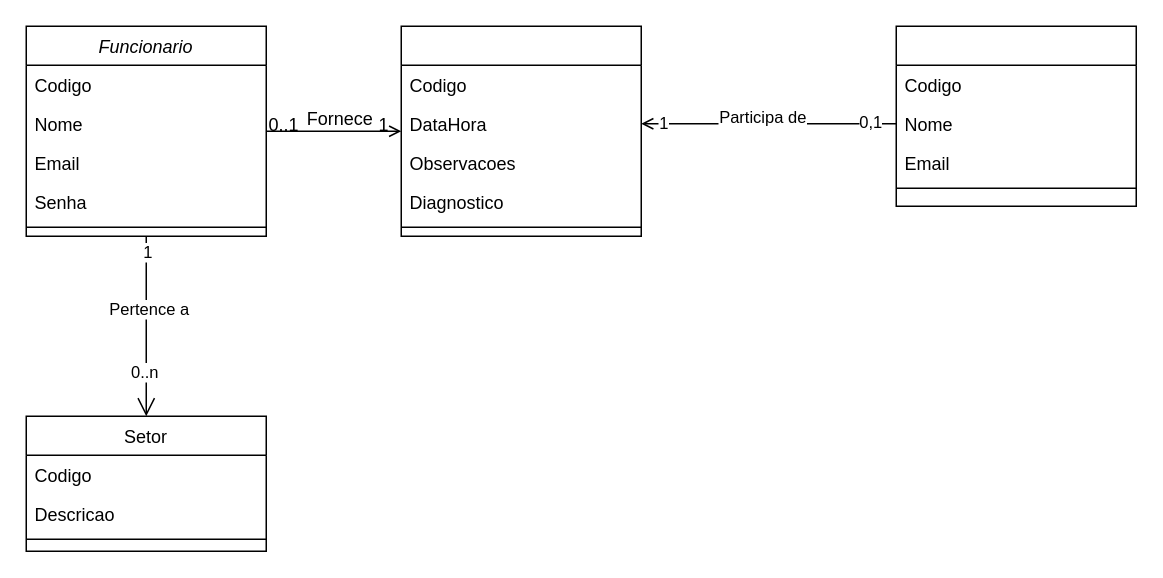
Some shapes in this 1163 by 578 pixel diagram are drawn without their labels. The box of each missing label's shape, as (x1, y1, x2, y2) in pixels:
Atendimento: (400, 25, 641, 236)
Paciente: (895, 25, 1136, 206)
